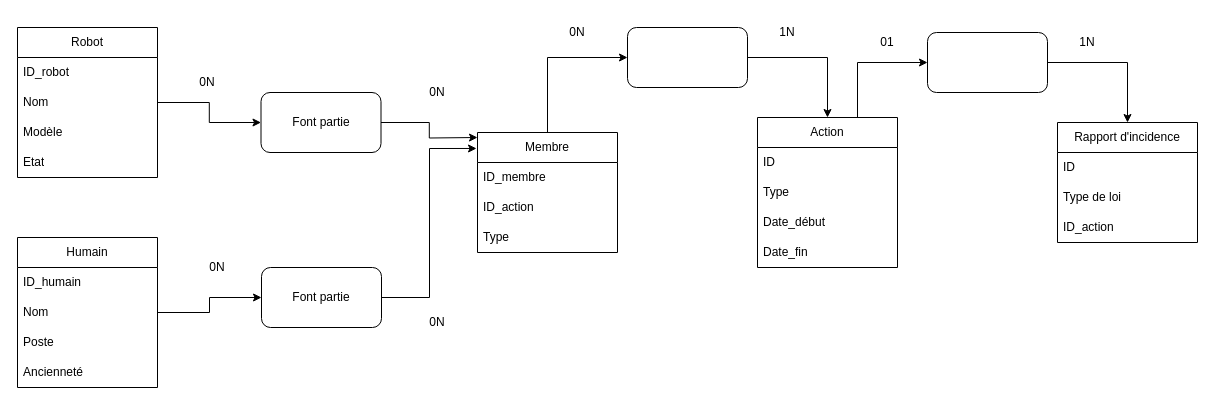
Some shapes in this 1215 by 405 pixel diagram are drawn without their labels. The centre of each missing label's shape, as x and y in pixels:
Inclue: point 987,62
Participe: point 687,57
